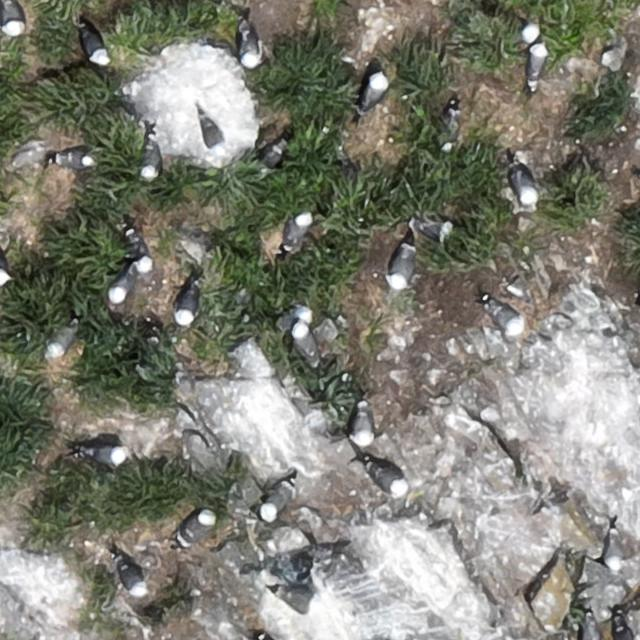umineko: (118, 223, 154, 270), (197, 114, 226, 162), (261, 483, 291, 519), (505, 15, 541, 45), (181, 510, 213, 541), (276, 590, 322, 611), (490, 302, 523, 330), (48, 324, 76, 356), (391, 247, 413, 287), (112, 266, 136, 302), (176, 286, 198, 324), (81, 29, 106, 62), (370, 467, 403, 492), (286, 212, 310, 246), (514, 171, 536, 208), (238, 28, 258, 68), (121, 566, 146, 597), (86, 445, 126, 464), (2, 0, 24, 34), (364, 72, 386, 106), (354, 407, 374, 444), (416, 220, 452, 239), (141, 140, 158, 180), (293, 324, 313, 356), (528, 43, 545, 79), (261, 144, 284, 170), (56, 151, 91, 168), (606, 538, 619, 568), (0, 253, 8, 284)
